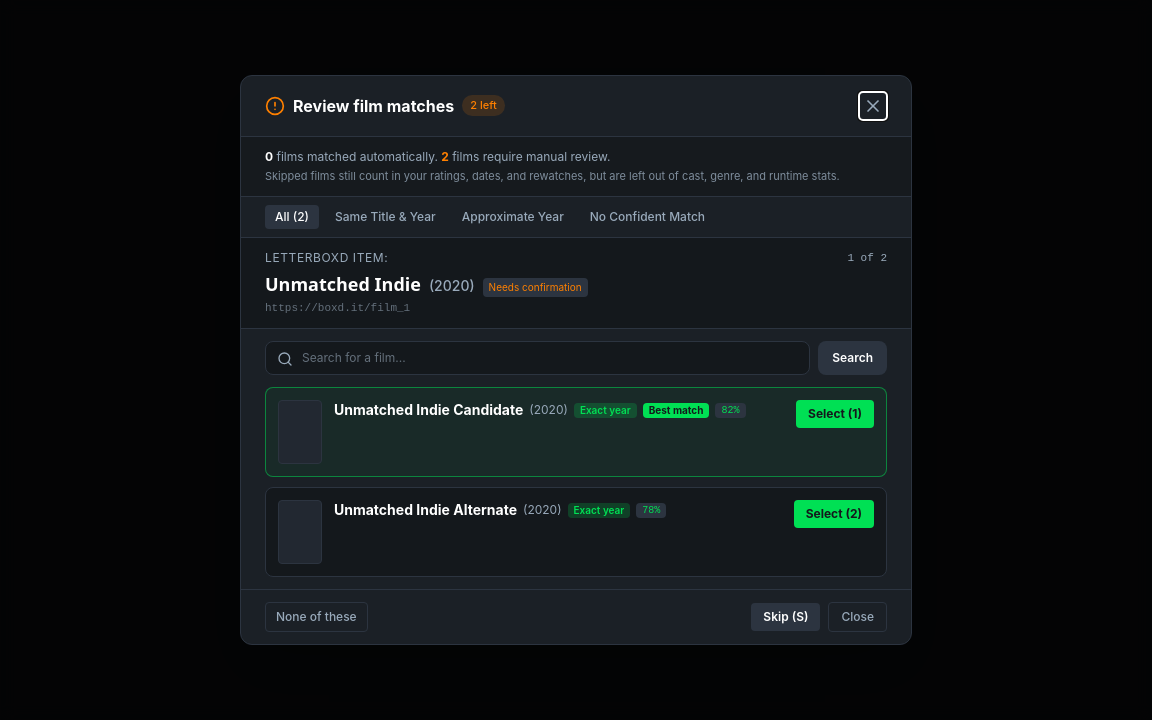
Test: Phase 3: Review Matches Modal Queue & Performance Tests › 4. None of these marks film as explicitly unmatched
This screenshot has width=1152, height=720.
Step 1. Click the button "None of these" → click(316, 617), box [265, 602, 368, 632]
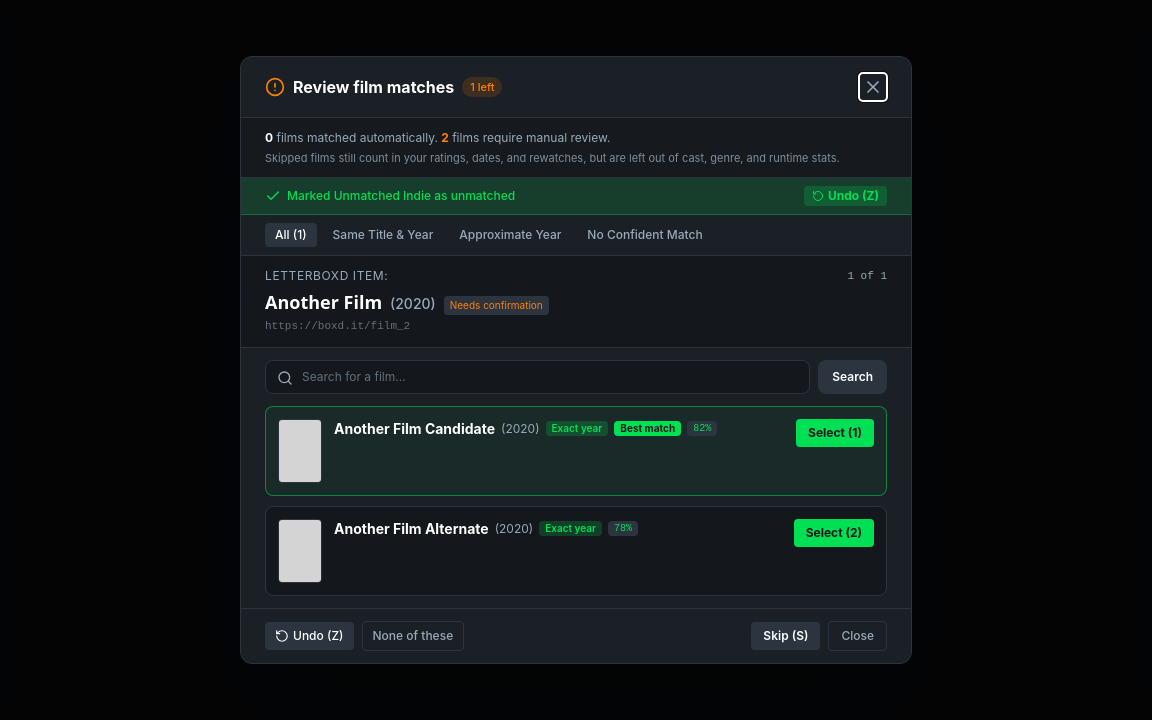
Now the text "Another Film" is shown, box [265, 288, 382, 316]
